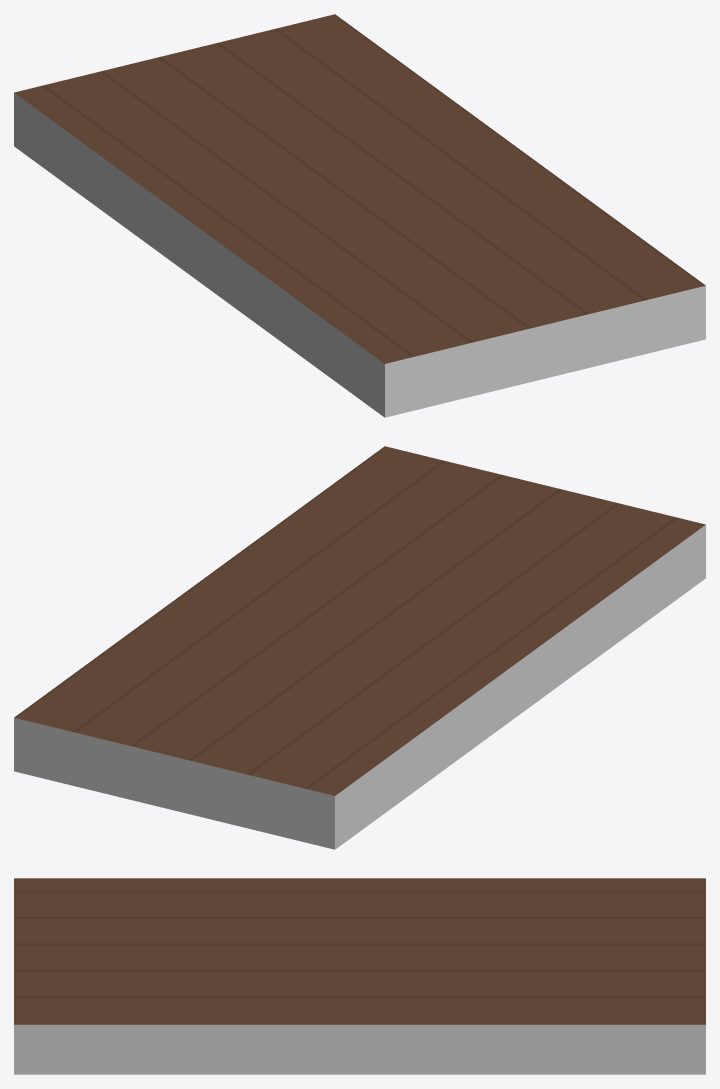
Rendered from Floor4_02.fbx.
3 renders of one model, top to bottom at view 1: azimuth 30°, elevation 25°; view 2: azimuth 150°, elevation 25°; view 3: azimuth 270°, elevation 25°, orthographic. The views are drawn at different scales.
Parts seen in each view (by area): view 1: Floor4_02; view 2: Floor4_02; view 3: Floor4_02.
Boxes of the visible parts, x1=… form: Floor4_02: x1=14, y1=14, x2=705, y2=417; Floor4_02: x1=14, y1=446, x2=705, y2=849; Floor4_02: x1=14, y1=878, x2=705, y2=1074.
Size of the model in its own units: 125 by 20 by 250.
